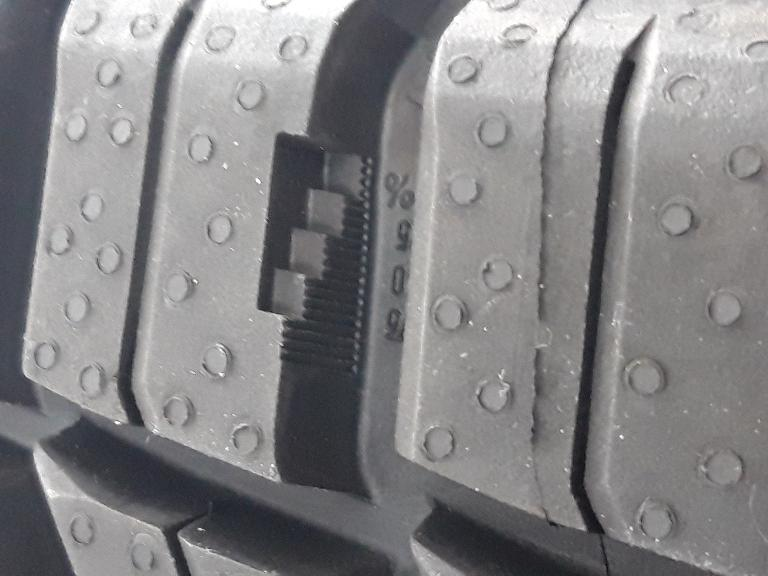temoin:100: (248, 125, 391, 386)
